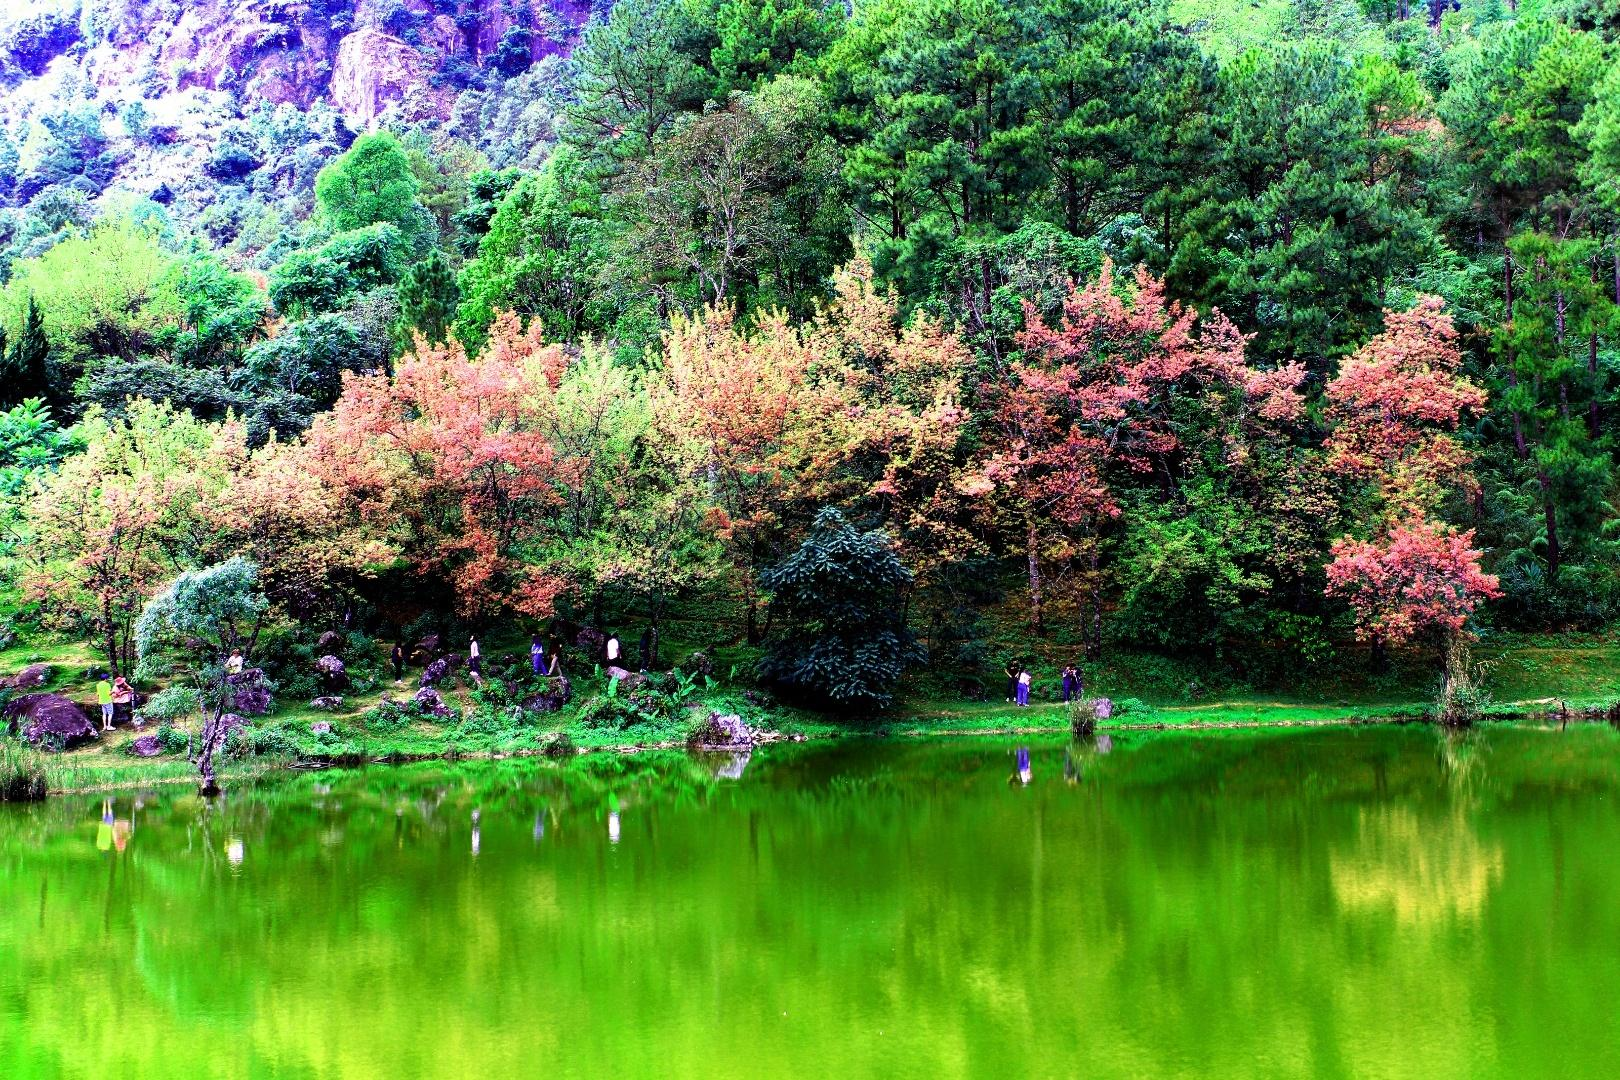trashbox-cardboard: (1078, 12, 1589, 397)
